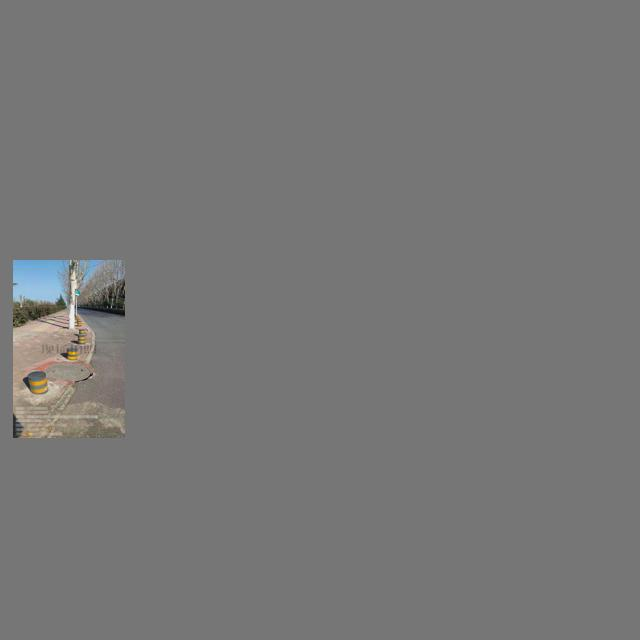circle: (43, 361, 94, 383)
